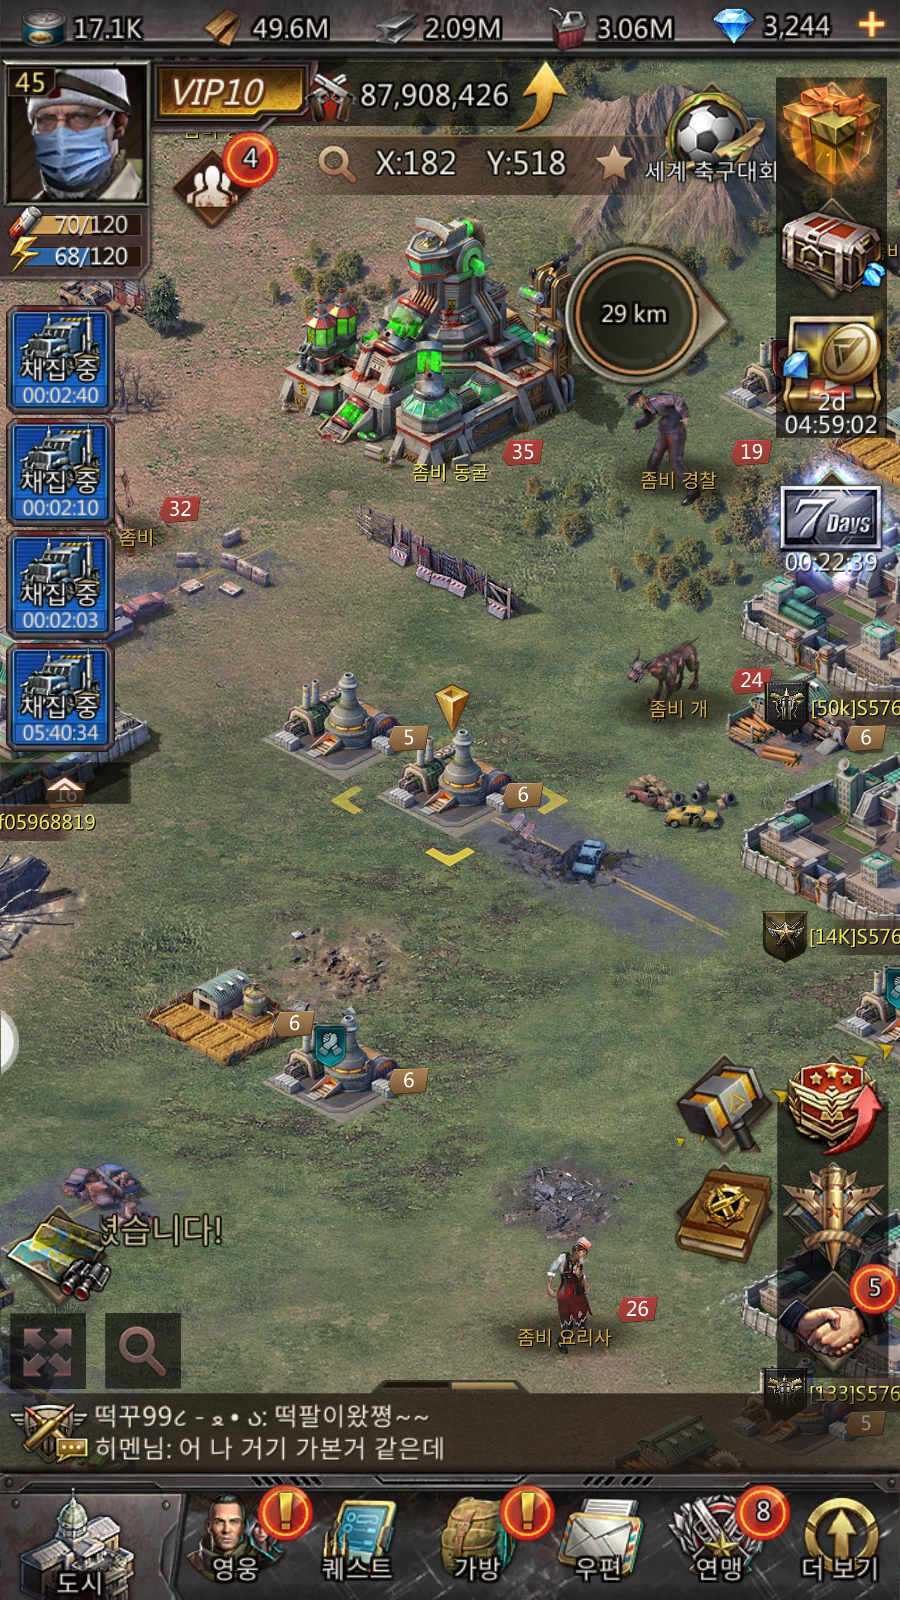city: (1, 1482, 175, 1600)
empty_steel: (325, 664, 584, 887)
open_panel: (93, 1291, 204, 1402)
troops_cnt_4: (167, 124, 293, 247)
